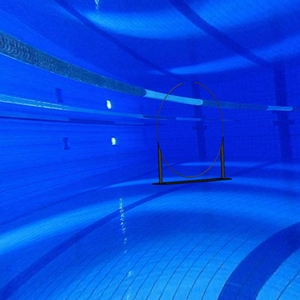circle: (151, 80, 235, 187)
